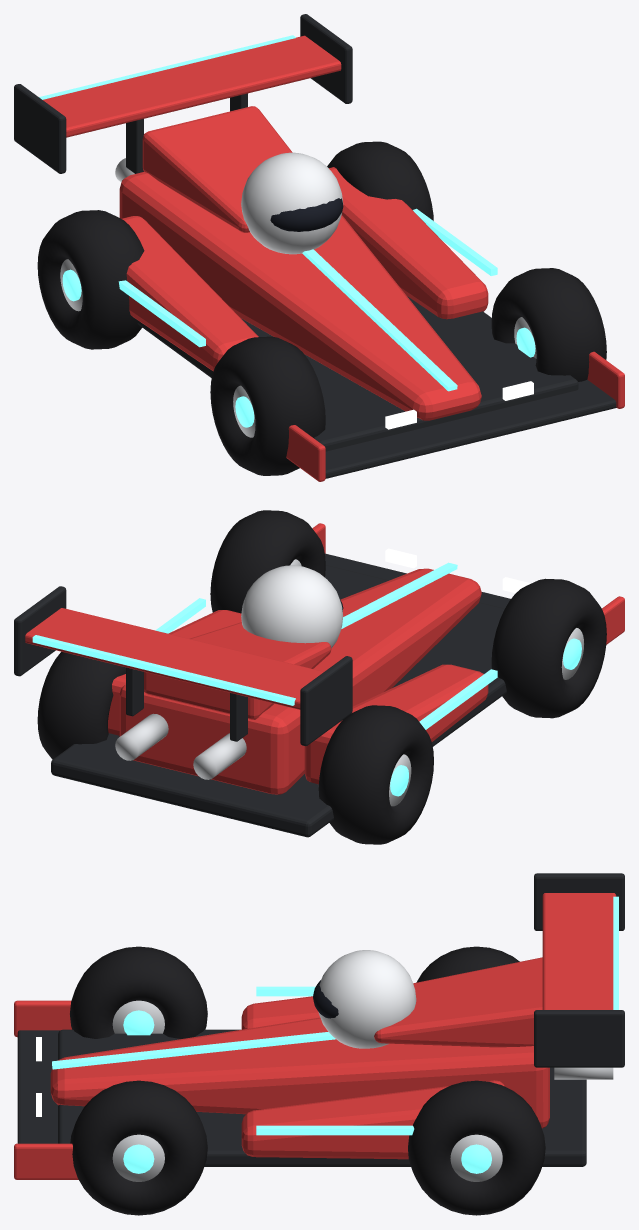
The model's file is kart-fiber.glb.
3 views of the same model, one above another, from view 1: azimuth 30°, elevation 25°; view 2: azimuth 150°, elevation 25°; view 3: azimuth 270°, elevation 25° (orthographic). The views are drawn at different scales.
Parts seen in each view (by area): view 1: Hull, Box, Wheel_FL, Box.012, Wheel_RL, Hull.001, Hull.003, Wheel_FR, Hull.002, Box.011, Helmet, Wheel_RR (+10 smaller); view 2: Hull, Box, Wheel_RL, Wheel_FL, Box.012, Wheel_FR, Helmet, Wheel_RR, Hull.002, Hull.001, Box.004, Box.013 (+11 smaller); view 3: Hull, Wheel_RR, Wheel_FR, Hull.001, Wheel_FL, Box, Hull.003, Box.012, Helmet, Box.009, Box.011, Box.014 (+10 smaller).
Part boxes in pixels (box(x1,y1,x2,y2)): Hull: box(119, 171, 481, 420); Box: box(137, 296, 578, 451); Wheel_FL: box(210, 336, 325, 475); Box.012: box(43, 35, 341, 137); Wheel_RL: box(37, 210, 144, 349); Hull.001: box(142, 106, 292, 232); Hull.003: box(329, 167, 488, 319); Wheel_FR: box(491, 268, 606, 381); Hull.002: box(122, 216, 258, 371); Box.011: box(325, 379, 616, 478); Helmet: box(241, 152, 343, 254); Wheel_RR: box(327, 141, 433, 220); Hull: box(119, 568, 481, 794); Box: box(51, 565, 506, 837); Wheel_RL: box(318, 705, 433, 844); Wheel_FL: box(491, 578, 606, 718); Box.012: box(25, 608, 323, 709); Wheel_FR: box(210, 510, 325, 613); Helmet: box(241, 565, 343, 648); Wheel_RR: box(37, 651, 125, 759); Hull.002: box(304, 664, 488, 784); Hull.001: box(144, 622, 331, 719); Box.004: box(300, 656, 352, 746); Box.013: box(32, 635, 295, 705); Hull: box(50, 1017, 549, 1128); Wheel_RR: box(408, 1080, 545, 1215); Wheel_FR: box(70, 1080, 207, 1215); Hull.001: box(374, 957, 542, 1047); Wheel_FL: box(70, 946, 207, 1038); Box: box(58, 1029, 586, 1166); Hull.003: box(241, 1080, 504, 1159); Box.012: box(542, 893, 616, 1009); Helmet: box(318, 950, 416, 1048); Box.009: box(534, 1010, 624, 1067); Box.011: box(17, 1030, 59, 1143); Box.014: box(52, 1032, 335, 1069).
Size of the model in its own units: 2.67 by 1.51 by 4.16.
